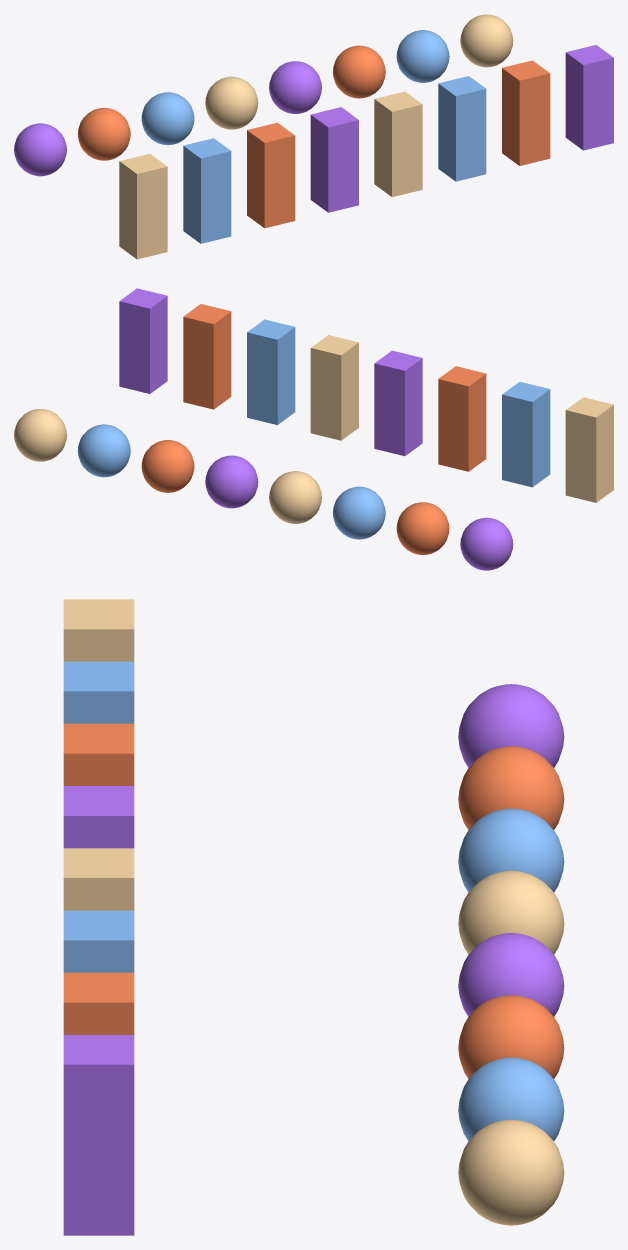
File: light-lab.scene.gltf
The picture shows the model from 3 angles, top to bottom: view 1: azimuth 30°, elevation 25°; view 2: azimuth 150°, elevation 25°; view 3: azimuth 270°, elevation 25°; orthographic projection. The views are drawn at different scales.
Parts seen in each view (by area): view 1: Pillar 0, Pillar 2, Pillar 4, Pillar 1, Pillar 7, Pillar 3, Pillar 6, Pillar 5, Sphere 7, Sphere 0, Sphere 2, Sphere 3 (+4 smaller); view 2: Pillar 1, Pillar 2, Pillar 3, Pillar 7, Pillar 0, Pillar 4, Pillar 5, Pillar 6, Sphere 4, Sphere 6, Sphere 2, Sphere 0 (+4 smaller); view 3: Pillar 7, Sphere 7, Sphere 2, Sphere 6, Sphere 0, Sphere 3, Sphere 1, Sphere 5, Sphere 4, Pillar 0, Pillar 4, Pillar 1 (+4 smaller).
Part boxes in pixels (x1,y1,x2,y2): Pillar 0: (119,154,167,259); Pillar 2: (247,122,295,228); Pillar 4: (374,91,422,197); Pillar 1: (183,138,231,243); Pillar 7: (565,45,613,150); Pillar 3: (310,107,358,212); Pillar 6: (502,60,550,165); Pillar 5: (438,76,486,181); Sphere 7: (460,14,513,67); Sphere 0: (14,123,66,176); Sphere 2: (141,92,194,145); Sphere 3: (205,76,258,129); Pillar 1: (502,381,550,487); Pillar 2: (438,366,486,471); Pillar 3: (374,350,422,456); Pillar 7: (119,288,167,393); Pillar 0: (565,397,613,502); Pillar 4: (310,335,358,440); Pillar 5: (247,319,295,424); Pillar 6: (183,304,231,409); Sphere 4: (205,455,258,508); Sphere 6: (77,424,130,477); Sphere 2: (332,486,385,539); Sphere 0: (460,517,513,570); Pillar 7: (63,1035,134,1235); Sphere 7: (458,1119,564,1225); Sphere 2: (458,808,564,892); Sphere 6: (458,1057,564,1141); Sphere 0: (458,684,564,767); Sphere 3: (458,870,564,954); Sphere 1: (458,746,564,829); Sphere 5: (458,995,564,1078); Sphere 4: (458,933,564,1016); Pillar 0: (63,599,134,661); Pillar 4: (63,848,134,910); Pillar 1: (63,661,134,723).
Size of what is drawn, in the model's own units: 19.3 by 3.2 by 8.5.
